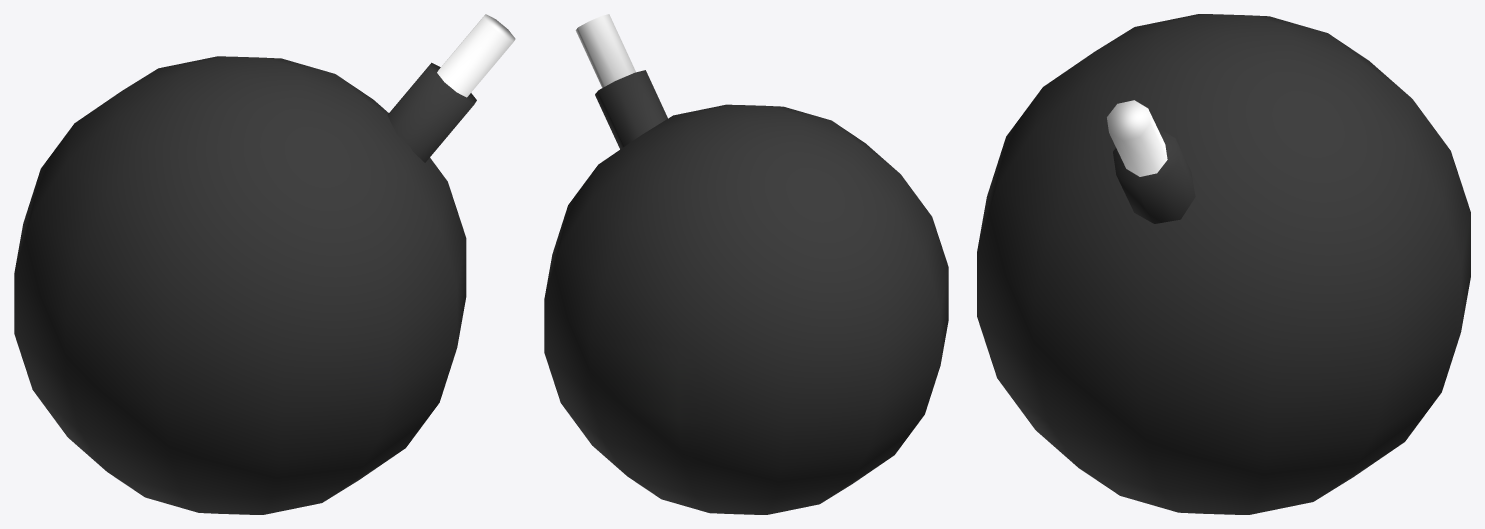
File: OBJ_bomb.fbx
3 views of the same model, side by side, from view 1: azimuth 30°, elevation 25°; view 2: azimuth 150°, elevation 25°; view 3: azimuth 270°, elevation 25° (orthographic). The views are drawn at different scales.
Parts seen in each view (by area): view 1: Sphere.001; view 2: Sphere.001; view 3: Sphere.001.
Boxes of the visible parts, <box> form: Sphere.001: <box>14,14,515,514</box>; Sphere.001: <box>544,14,948,514</box>; Sphere.001: <box>977,14,1470,514</box>.
Size of the model in its own units: 802 by 829 by 738.
